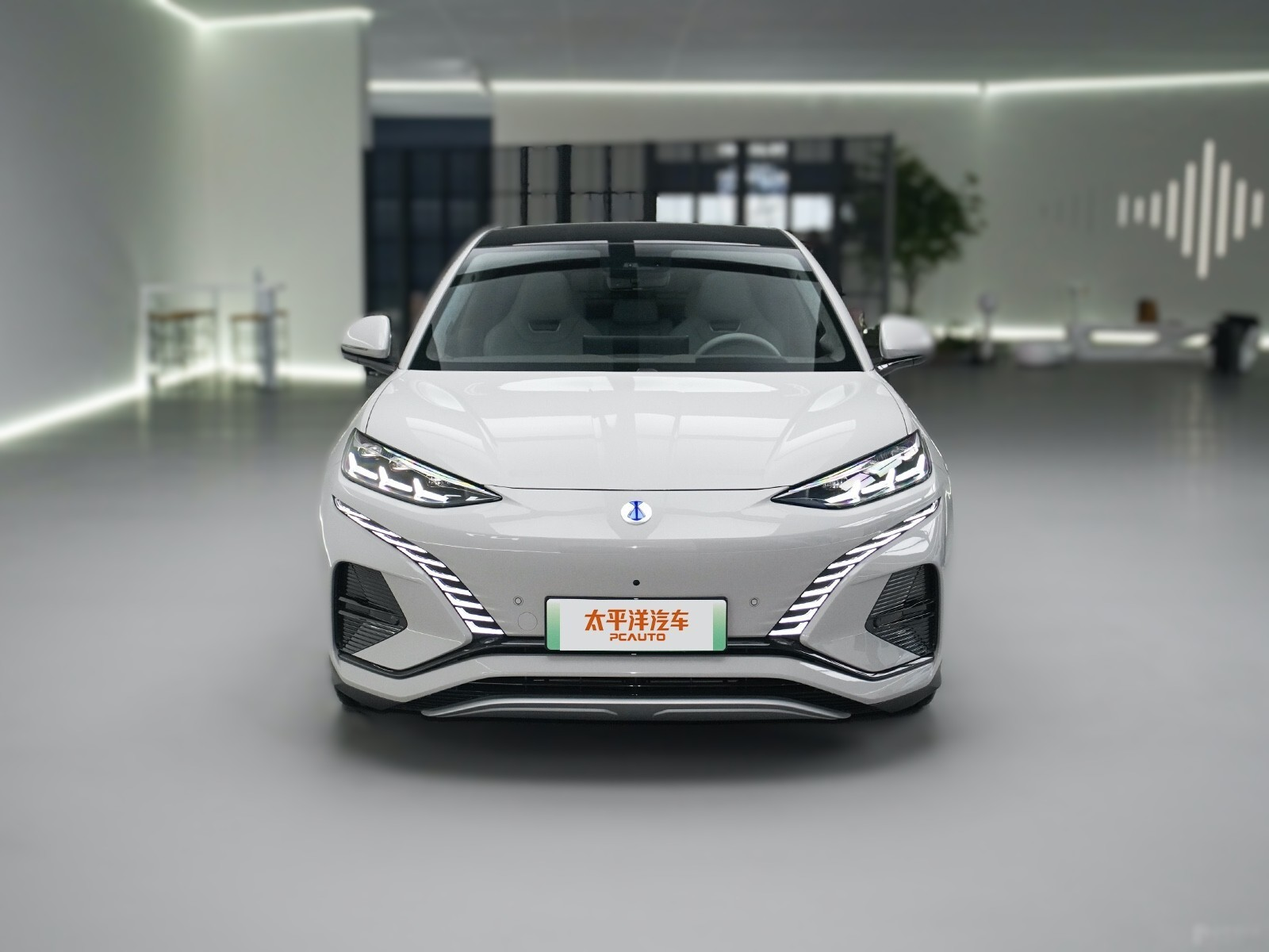DENZA: (621, 501, 652, 524)
